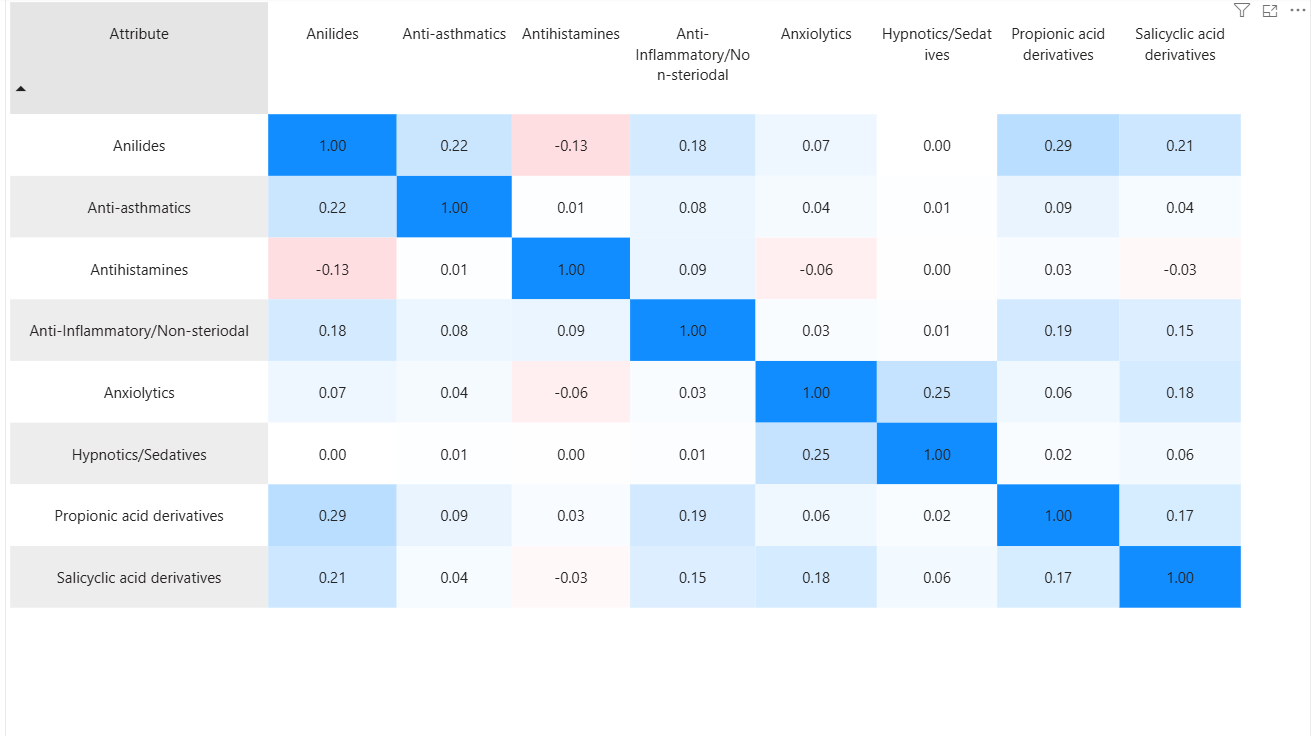

The dashboard page shown, as its layout file describes it:
{"tool":"powerbi","page":{"name":"Cross category correlation","canvas":[1280,720],"ordinal":5},"visuals":[{"type":"pivotTable","fields":{"Rows":["Compare_Attribute.Attribute"],"Columns":["sales_unpivoted.Attribute"],"Values":["sales_unpivoted.Correlation"]},"box":[9.7,0,1270.3,719.8],"z":0}]}

Visuals, with their boxes in screenshot pixels (x1, y1, x2, y2), scaled from the page's 1280x720 canvas onto the 1311x736 screenshot:
pivotTable - Compare_Attribute.Attribute x sales_unpivoted.Attribute: (left=10, top=0, right=1310, bottom=735)
